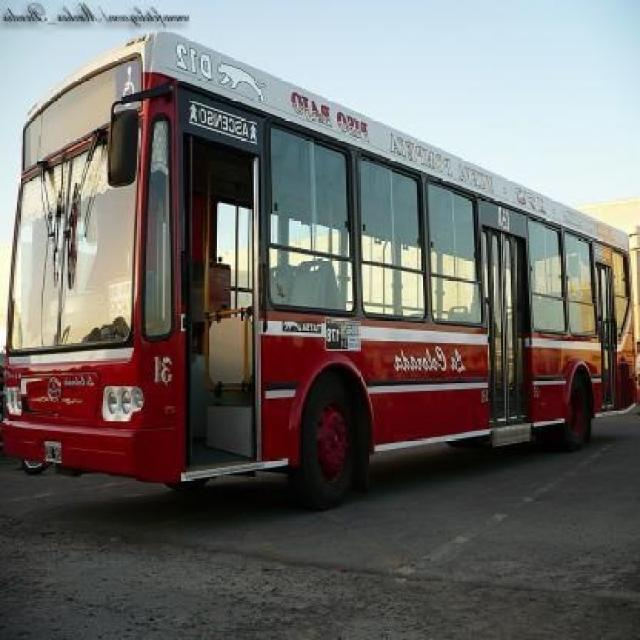Bus: (0, 42, 640, 480)
